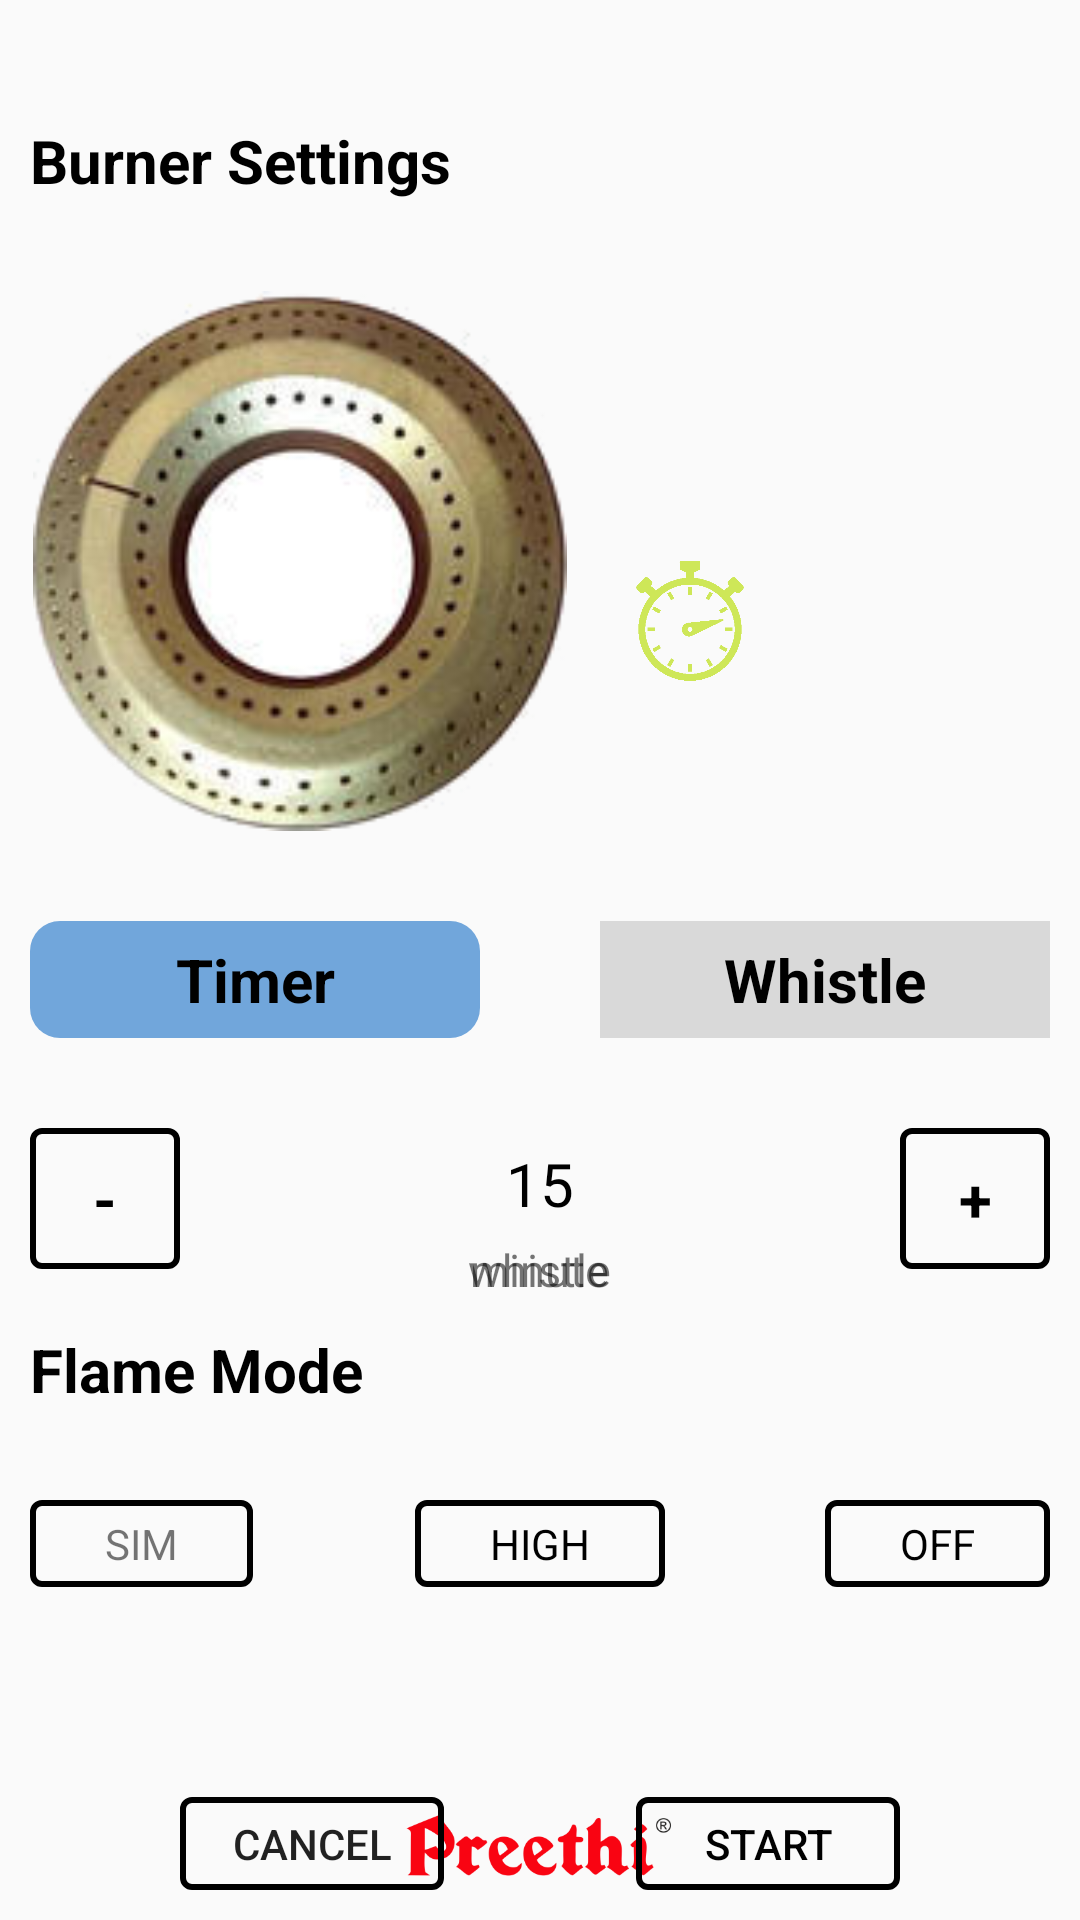

Named icons in this screenshot (1080 x 1920) and their bounding boxes, (x1, y1, x2, y2):
timer present: (636, 561, 744, 681)
